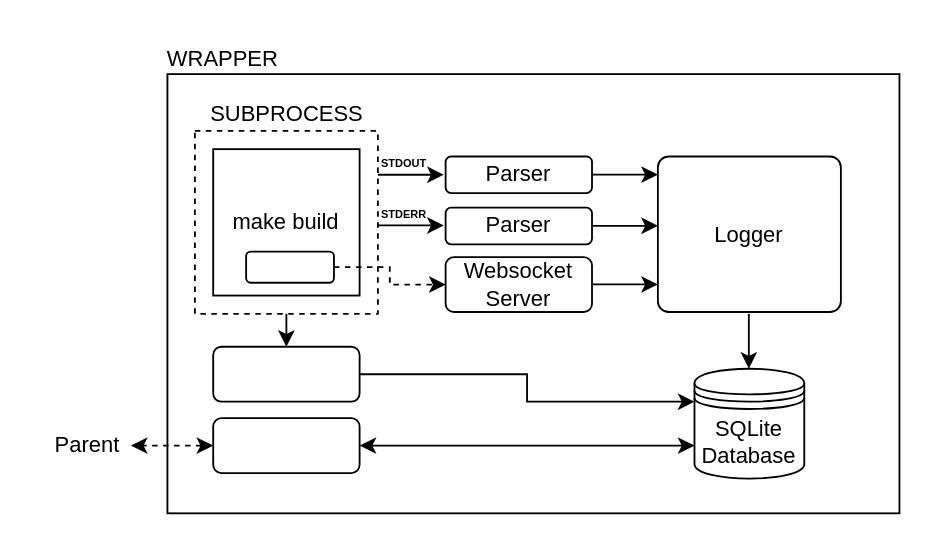
The diagram is 931 pixels wide and 545 high, and some of its shapes have lost their labels. The centre of each missing label's shape, as x and y in pixels:
"API" belongs at point (289, 266).
"Resource Monitor" belongs at point (285, 373).
"Websocket Client" belongs at point (285, 444).
